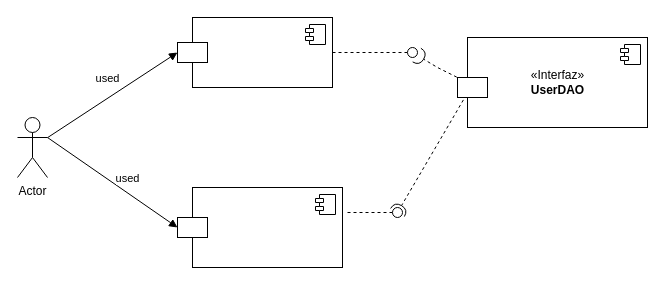
Image size: 665x285. Some labels were removed from this diagram. Each missing label, with the box of its shape:
«Annotation» Authentication: (192, 16, 332, 88)
«Annotation» CreateUser: (192, 186, 342, 268)
